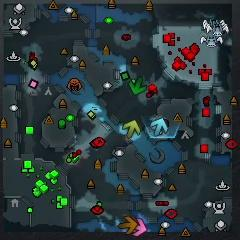x1: (134, 218, 147, 236)
x2: (123, 120, 141, 138)
x3: (151, 118, 168, 137)
x4: (129, 77, 147, 94)
x5: (118, 216, 136, 234)
